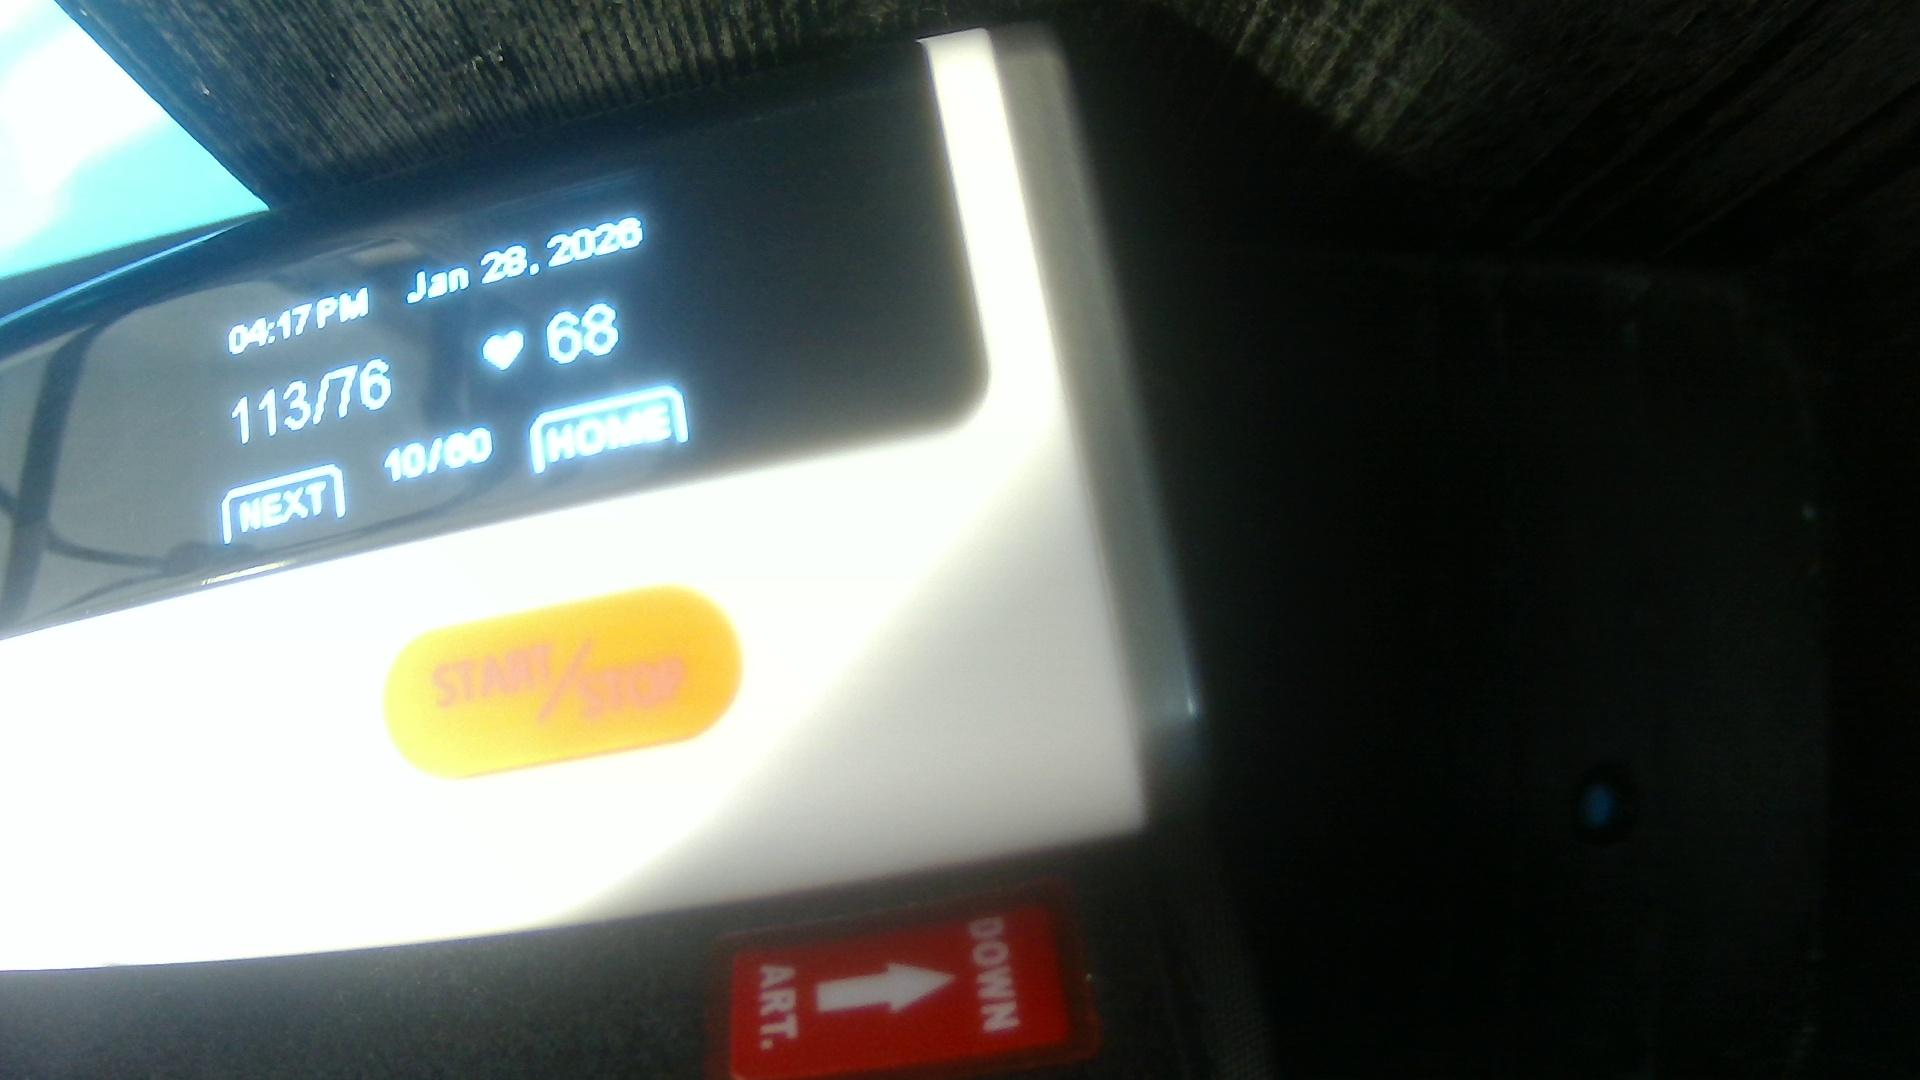DISPLAY: (16, 37, 979, 626)
